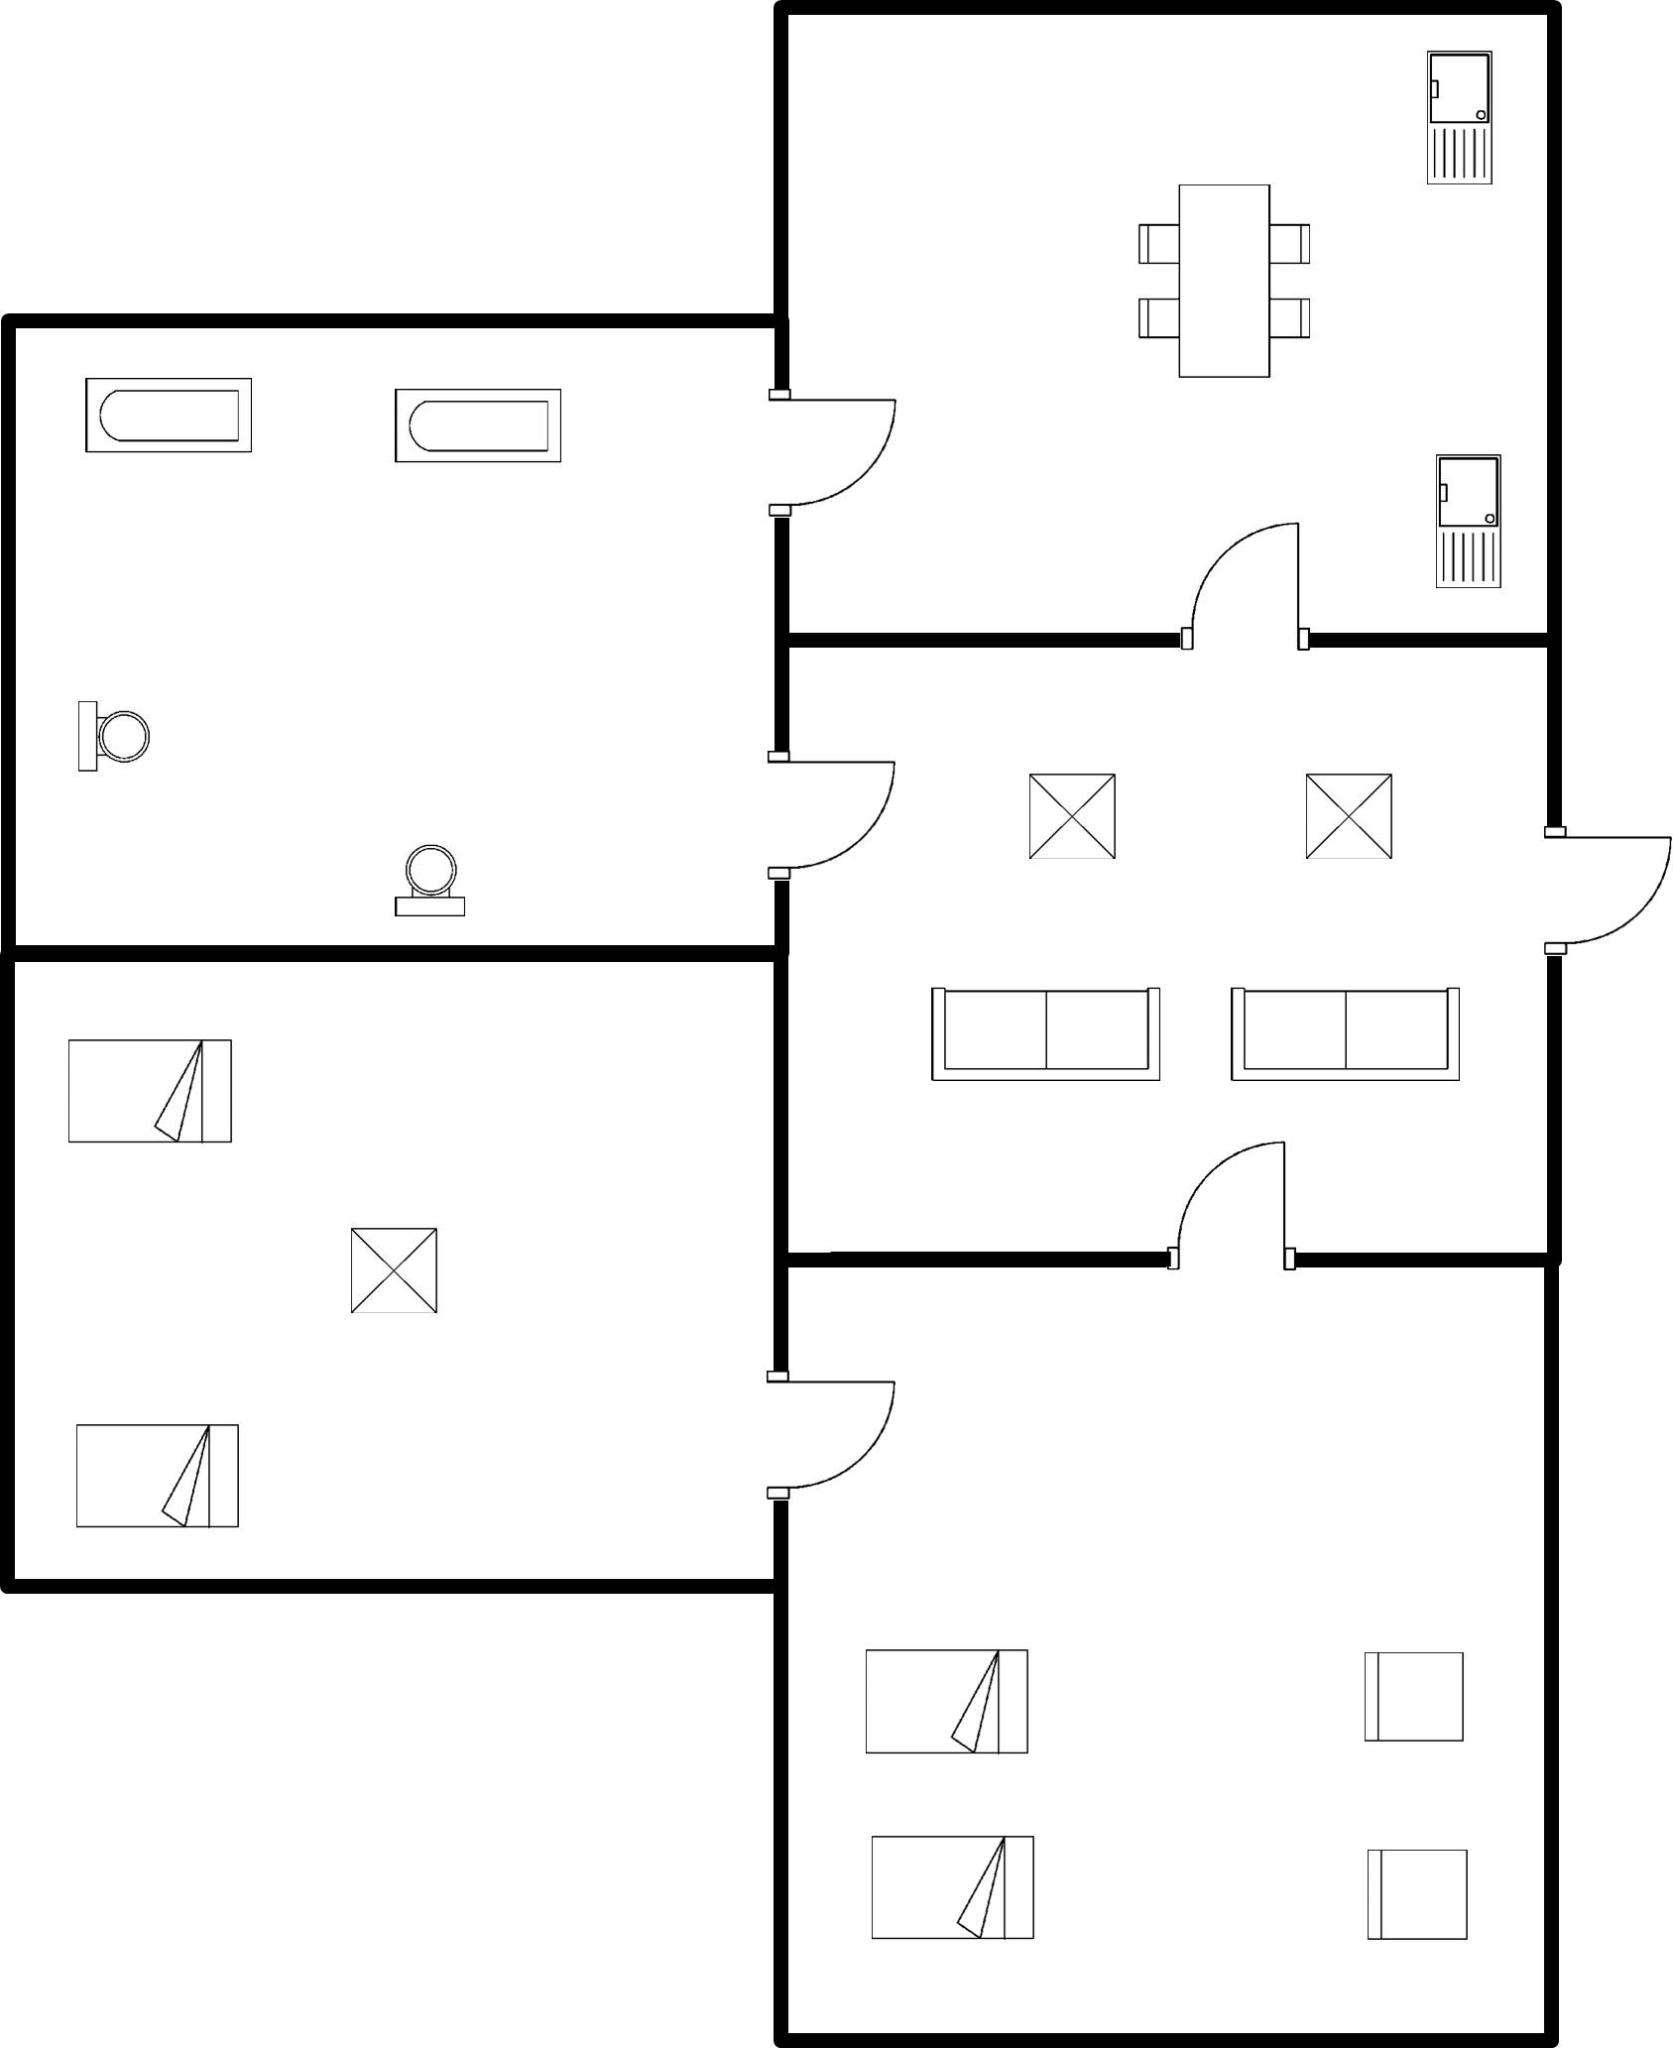bed: (850, 1631, 1041, 1772), (53, 1022, 247, 1160), (854, 1822, 1046, 1951), (58, 1414, 248, 1536)
dining_table: (1124, 165, 1319, 400)
sink: (1406, 36, 1503, 208)
sofa: (1207, 973, 1471, 1097), (913, 976, 1175, 1097)
toilet: (379, 823, 478, 927), (63, 687, 162, 781)
tub: (70, 364, 262, 471), (379, 371, 575, 473)
